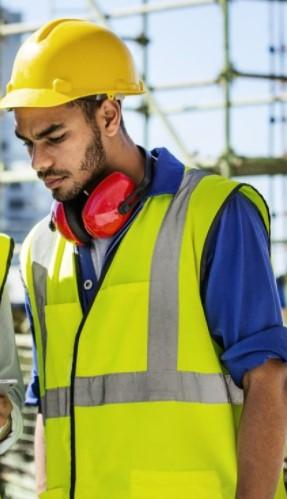hat: (1, 4, 156, 196)
vest: (34, 167, 287, 499), (1, 210, 22, 499)
